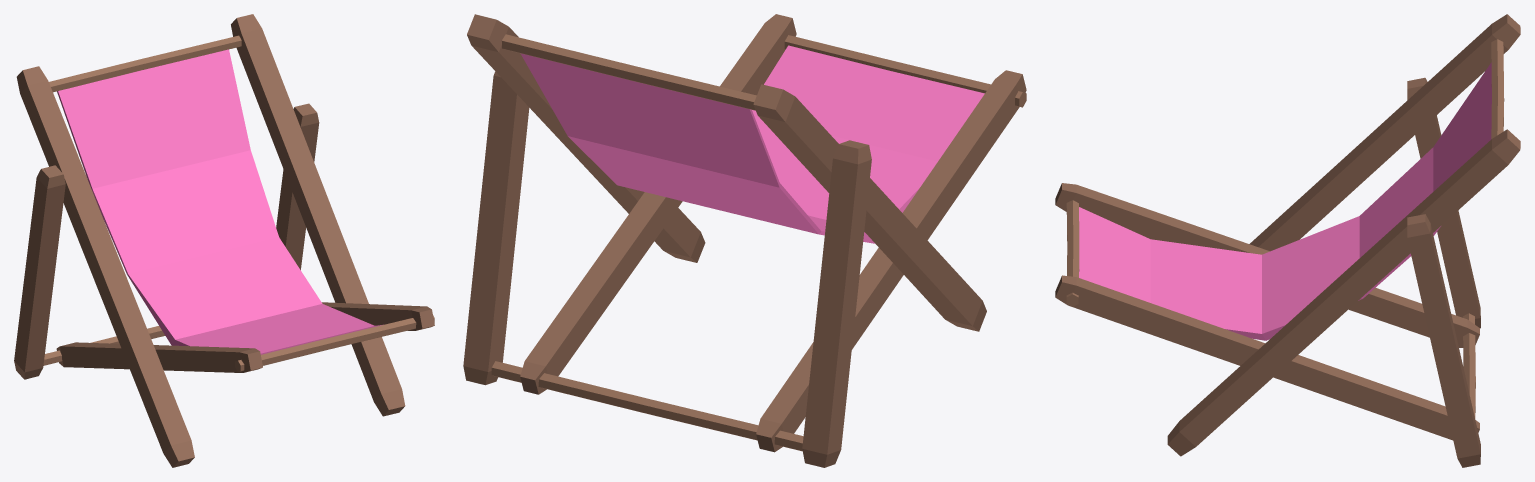
The model's file is Beach_chair_01.fbx.
3 views of the same model, side by side, from view 1: azimuth 30°, elevation 25°; view 2: azimuth 150°, elevation 25°; view 3: azimuth 270°, elevation 25° (orthographic). The views are drawn at different scales.
Parts seen in each view (by area): view 1: Beach_chair_01; view 2: Beach_chair_01; view 3: Beach_chair_01.
Boxes of the visible parts, bbox=[...] form: Beach_chair_01: bbox=[14, 14, 434, 467]; Beach_chair_01: bbox=[463, 14, 1026, 467]; Beach_chair_01: bbox=[1055, 14, 1520, 467].
Size of the model in its own units: 103 by 105 by 138.
